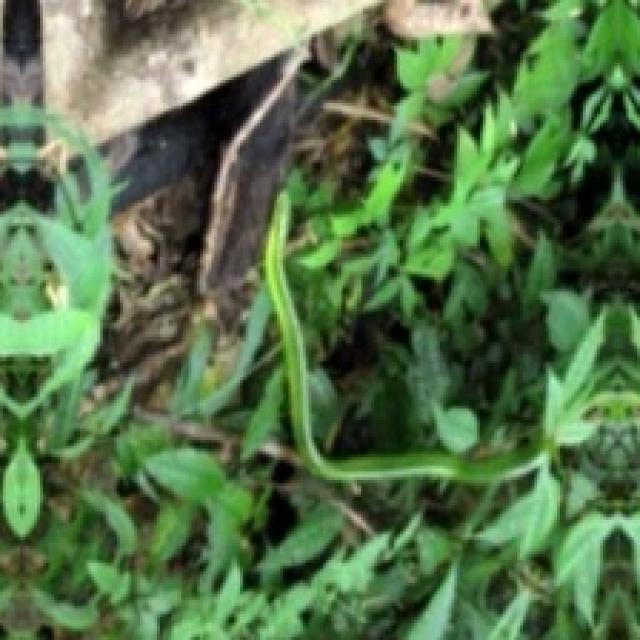red-tailed green ratsnake: (264, 194, 551, 484)
